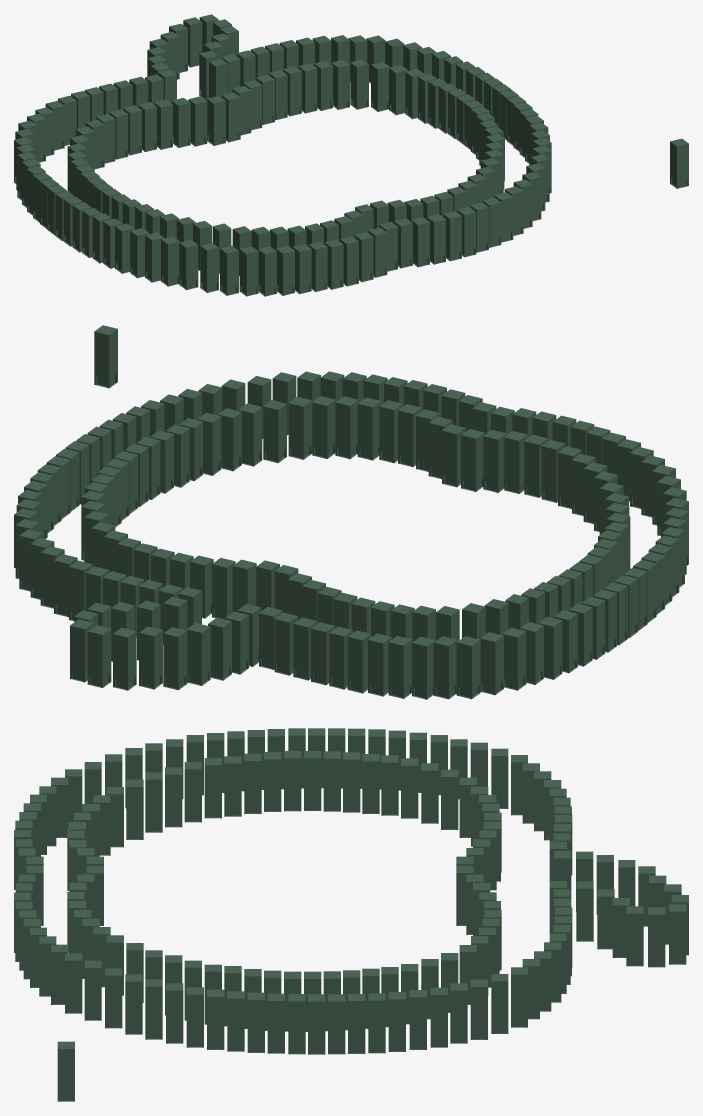
File: building.obj
3 views of the same model, one above another, from view 1: azimuth 30°, elevation 25°; view 2: azimuth 150°, elevation 25°; view 3: azimuth 270°, elevation 25° (orthographic). The views are drawn at different scales.
Parts seen in each view (by area): view 1: Cube.001; view 2: Cube.001; view 3: Cube.001.
Boxes of the visible parts, <box> form: Cube.001: <box>14,14,688,296</box>; Cube.001: <box>14,325,688,699</box>; Cube.001: <box>14,728,688,1101</box>.
Bounding box in the file's own units: 169 × 13.02 × 151.
1 material, 1 textured.
